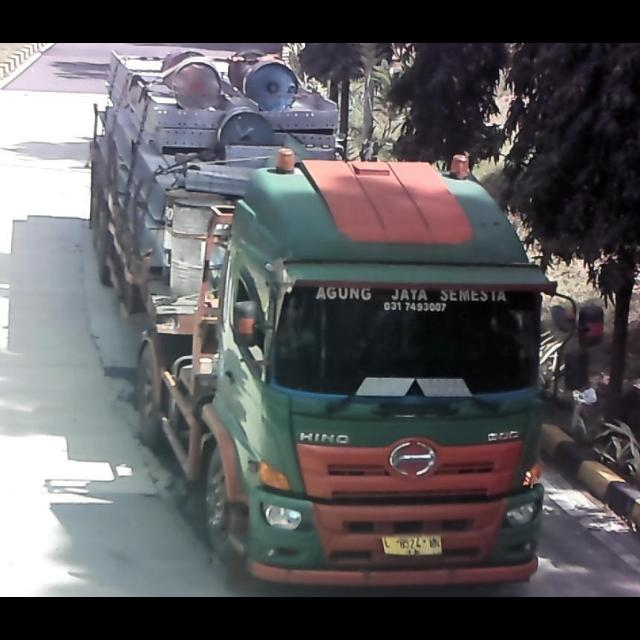plate: (380, 532, 444, 556)
